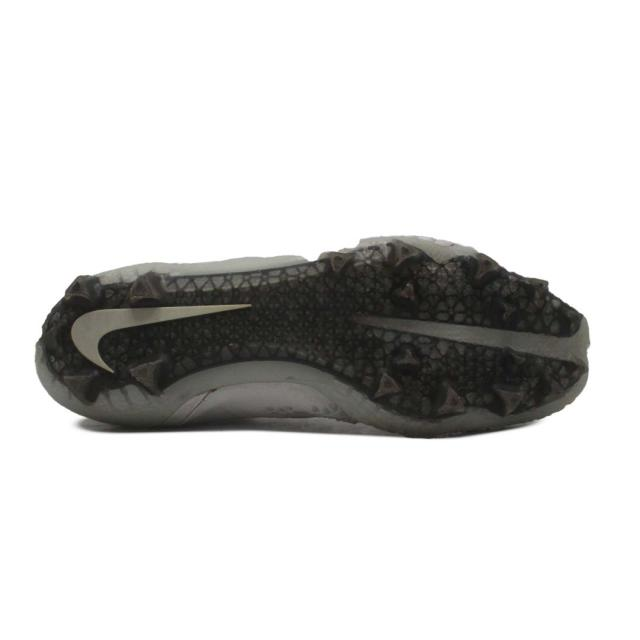outersole: (40, 236, 596, 432)
